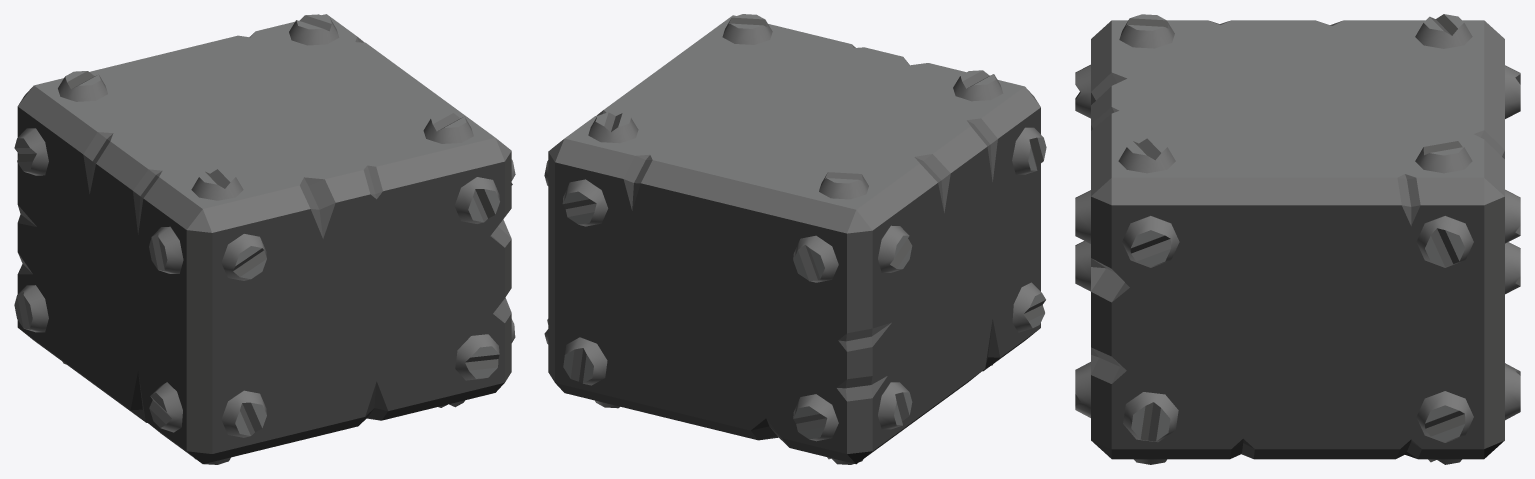
File: m_kub_metalOld_cubeMid.FBX
3 renders of one model, left to right at view 1: azimuth 30°, elevation 25°; view 2: azimuth 150°, elevation 25°; view 3: azimuth 270°, elevation 25°, orthographic. The views are drawn at different scales.
Parts seen in each view (by area): view 1: m_kub_metalOld_cubeMid; view 2: m_kub_metalOld_cubeMid; view 3: m_kub_metalOld_cubeMid.
Boxes of the visible parts, x1=… form: m_kub_metalOld_cubeMid: x1=14, y1=14, x2=515, y2=464; m_kub_metalOld_cubeMid: x1=544, y1=14, x2=1046, y2=464; m_kub_metalOld_cubeMid: x1=1075, y1=14, x2=1520, y2=464.
Bounding box in the file's own units: 2.15 × 1.65 × 2.15.
